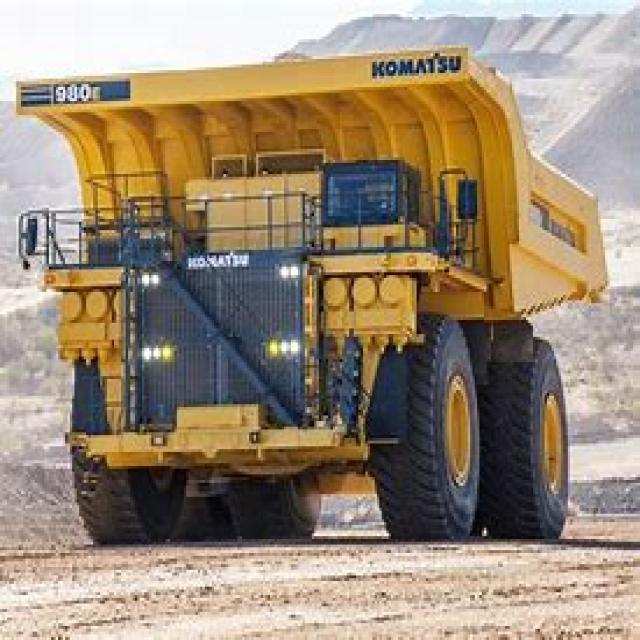dump_truck: (19, 39, 616, 539)
